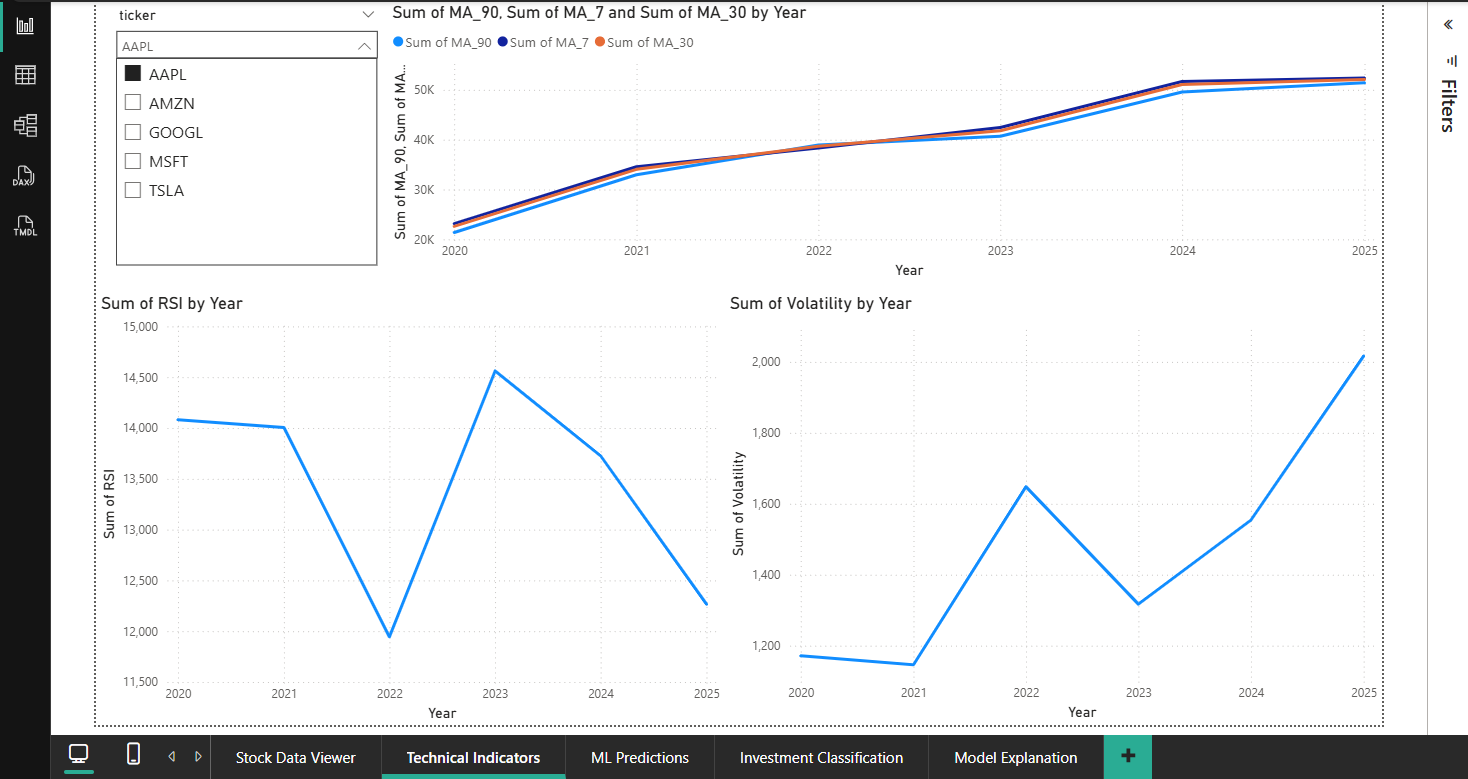

The page's visual inventory and layout, read from the dashboard file:
{"tool":"powerbi","page":{"name":"Technical Indicators","canvas":[1280,720],"ordinal":1},"visuals":[{"type":"slicer","fields":{"Values":["technical_indicators.ticker"]},"box":[10,0,280,280],"z":0},{"type":"lineChart","fields":{"Category":["technical_indicators.date.Variation.Date Hierarchy.Year","technical_indicators.date.Variation.Date Hierarchy.Quarter","technical_indicators.date.Variation.Date Hierarchy.Month","technical_indicators.date.Variation.Date Hierarchy.Day"],"Y":["Sum(technical_indicators.MA_90)","Sum(technical_indicators.MA_7)","Sum(technical_indicators.MA_30)"]},"box":[289.5,0,990.7,279.9],"z":1000},{"type":"lineChart","fields":{"Category":["technical_indicators.date.Variation.Date Hierarchy.Year","technical_indicators.date.Variation.Date Hierarchy.Quarter","technical_indicators.date.Variation.Date Hierarchy.Month","technical_indicators.date.Variation.Date Hierarchy.Day"],"Y":["Sum(technical_indicators.RSI)"]},"box":[0,289.5,625.7,430.9],"z":2000},{"type":"lineChart","fields":{"Category":["technical_indicators.date.Variation.Date Hierarchy.Year","technical_indicators.date.Variation.Date Hierarchy.Quarter","technical_indicators.date.Variation.Date Hierarchy.Month","technical_indicators.date.Variation.Date Hierarchy.Day"],"Y":["Sum(technical_indicators.Volatility)"]},"box":[626,290,654,430],"z":3000}]}

Visuals, with their boxes on the page's 1280x720 design canvas (x1, y1, x2, y2). These are canvas units, not pixel positions in the 1468x779 screenshot, which may show the page scaled, cropped or inside an application window:
slicer - technical_indicators.ticker: x1=10 y1=0 x2=290 y2=280
lineChart - technical_indicators.date.Variation.Date Hierarchy.Year x technical_indicators.date.Variation.Date Hierarchy.Quarter: x1=290 y1=0 x2=1280 y2=280
lineChart - technical_indicators.date.Variation.Date Hierarchy.Year x technical_indicators.date.Variation.Date Hierarchy.Quarter: x1=0 y1=290 x2=626 y2=720
lineChart - technical_indicators.date.Variation.Date Hierarchy.Year x technical_indicators.date.Variation.Date Hierarchy.Quarter: x1=626 y1=290 x2=1280 y2=720
